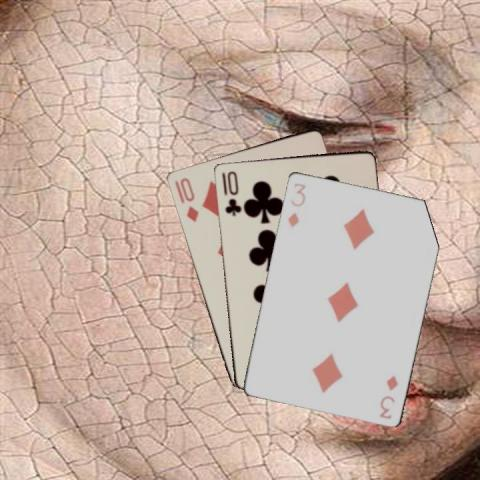10c: (219, 168, 242, 218)
10d: (177, 174, 200, 223)
3d: (284, 179, 307, 229), (377, 371, 399, 420)
